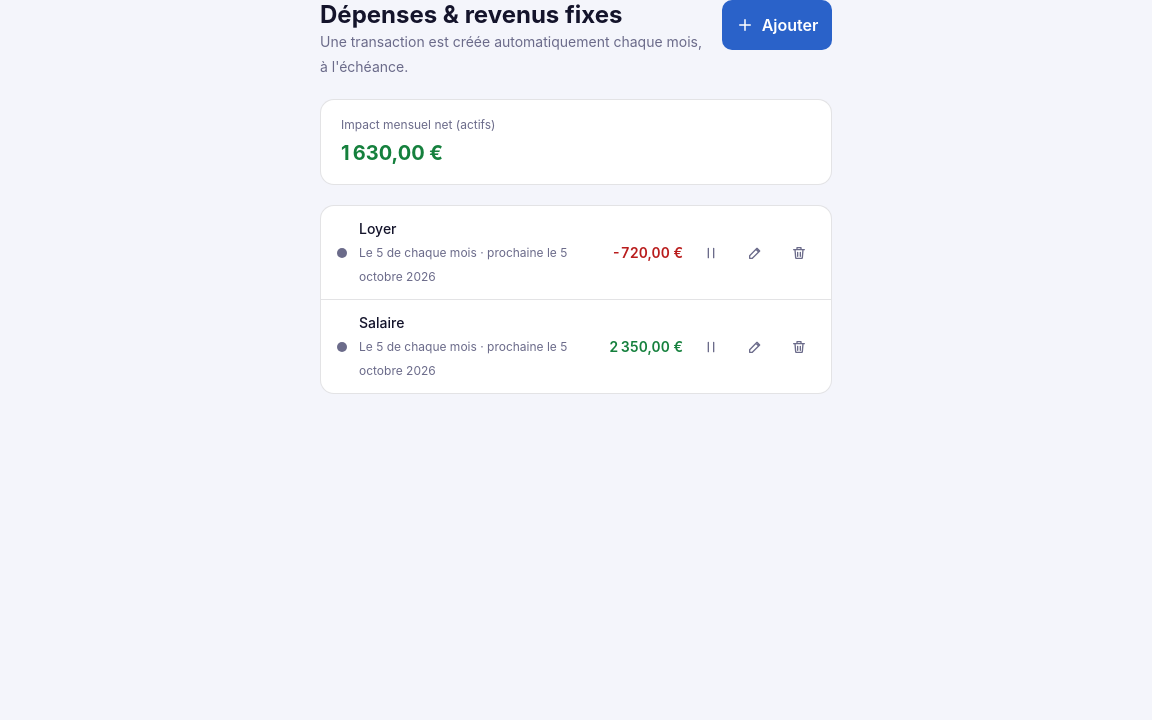
it: RecurringPage — édition › « Modifier » ouvre la modale préremplie
This screenshot has width=1152, height=720.
Click the button named "Modifier Loyer".
click(755, 252)  # box [739,236,771,268]
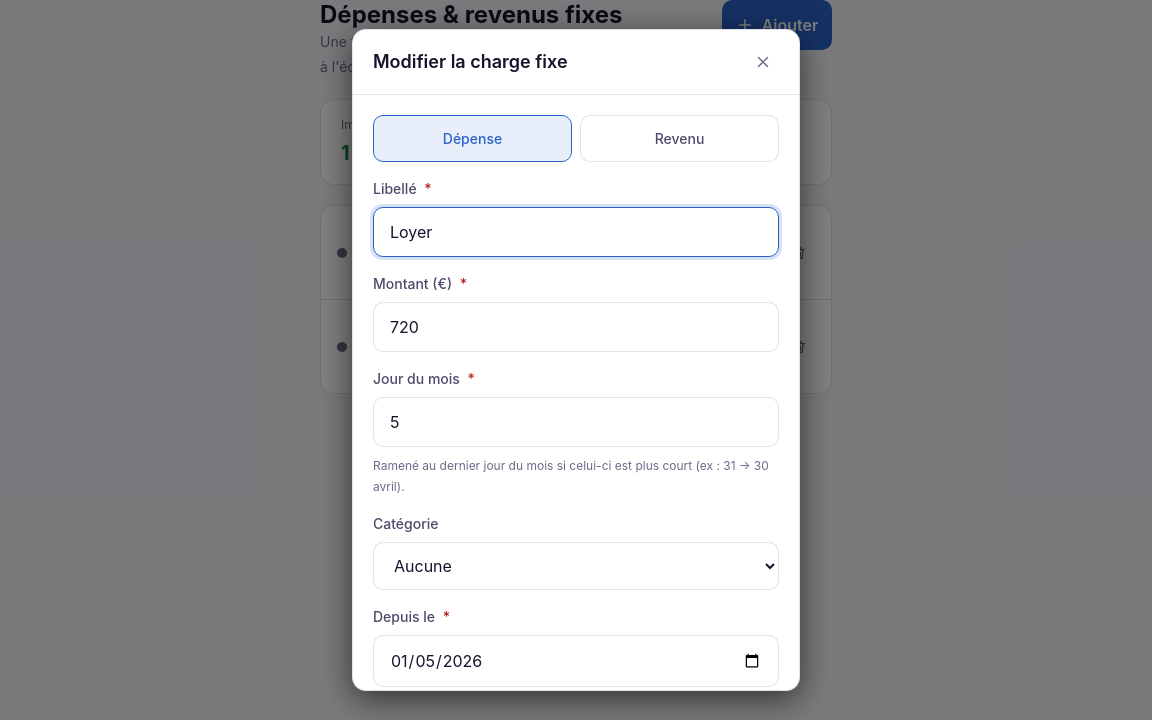
Expected: the dialog shows "Modifier la charge fixe", [373,50,568,72]
Expected: the field with id "recurring-title" holds "Loyer", [373,207,779,257]
